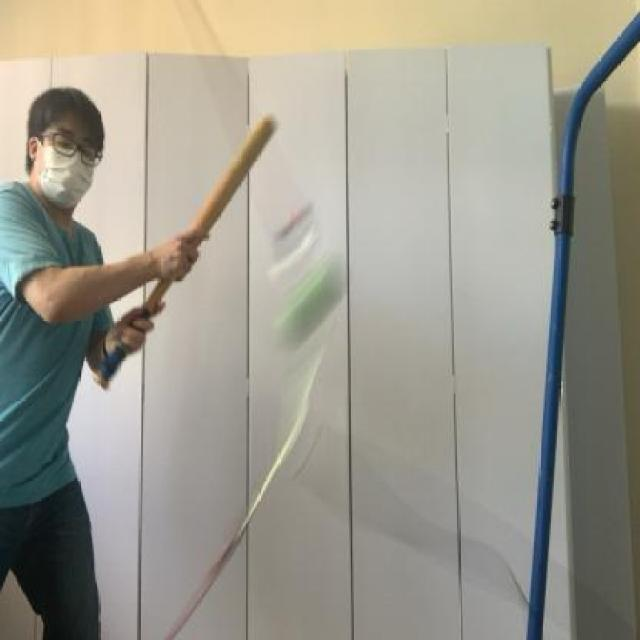baseball: (266, 250, 362, 361)
